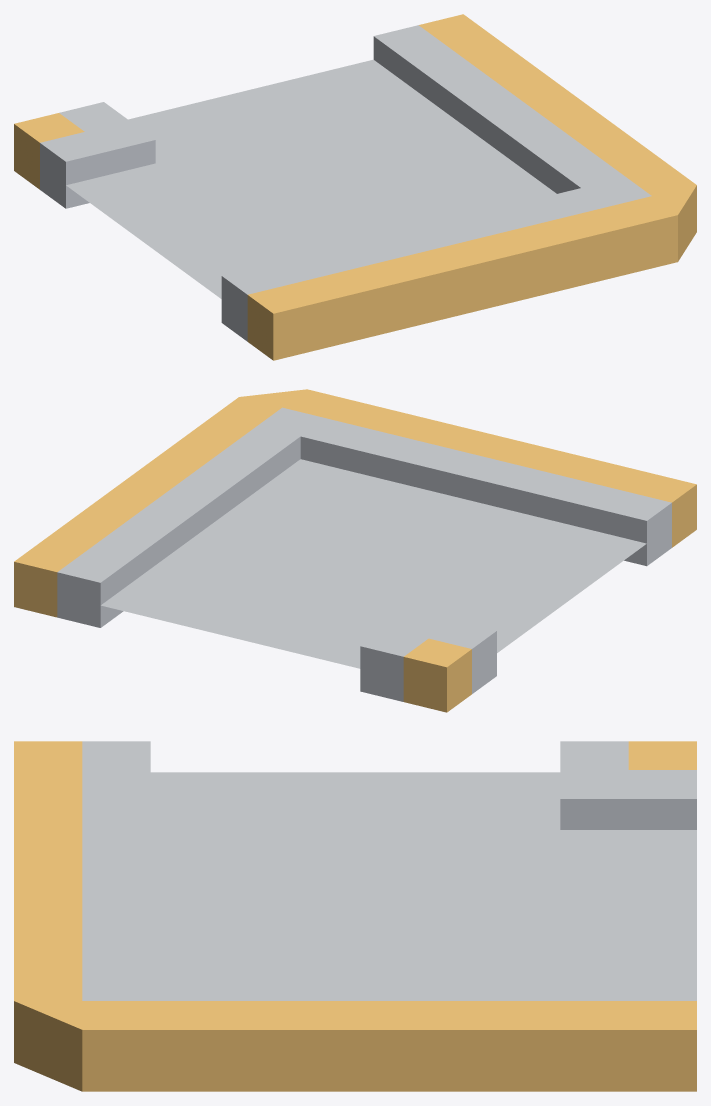
File: platform_corner.glb
3 views of the same model, one above another, from view 1: azimuth 30°, elevation 25°; view 2: azimuth 150°, elevation 25°; view 3: azimuth 270°, elevation 25° (orthographic). The views are drawn at different scales.
Visible parts, largest first — view 1: platform_corner; view 2: platform_corner; view 3: platform_corner.
Boxes of the visible parts, left/top/right/bottom form: platform_corner: left=14, top=14, right=696, bottom=360; platform_corner: left=14, top=389, right=696, bottom=712; platform_corner: left=14, top=741, right=696, bottom=1091.
Size of the model in its own units: 1 by 0.1 by 1.
